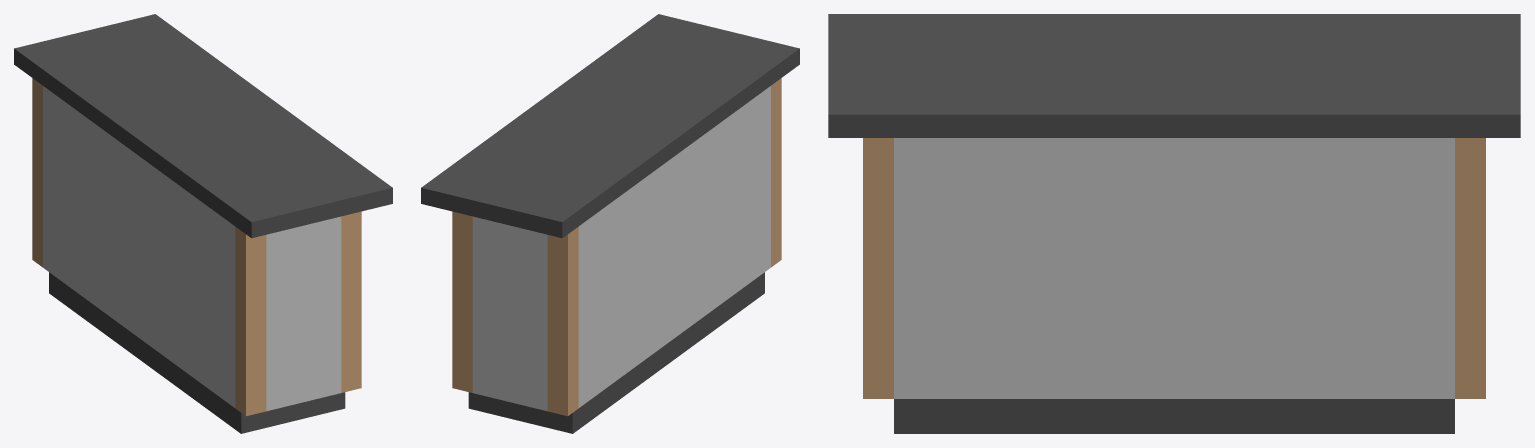
Rendered from Barber Counter.fbx.
The picture shows the model from 3 angles, left to right: view 1: azimuth 30°, elevation 25°; view 2: azimuth 150°, elevation 25°; view 3: azimuth 270°, elevation 25°; orthographic projection. The views are drawn at different scales.
Parts seen in each view (by area): view 1: Barber Counter; view 2: Barber Counter; view 3: Barber Counter.
Boxes of the visible parts, <box> form: Barber Counter: <box>14,14,392,433</box>; Barber Counter: <box>421,14,799,433</box>; Barber Counter: <box>828,14,1520,433</box>.
Size of the model in its own units: 550 by 860 by 1600.
